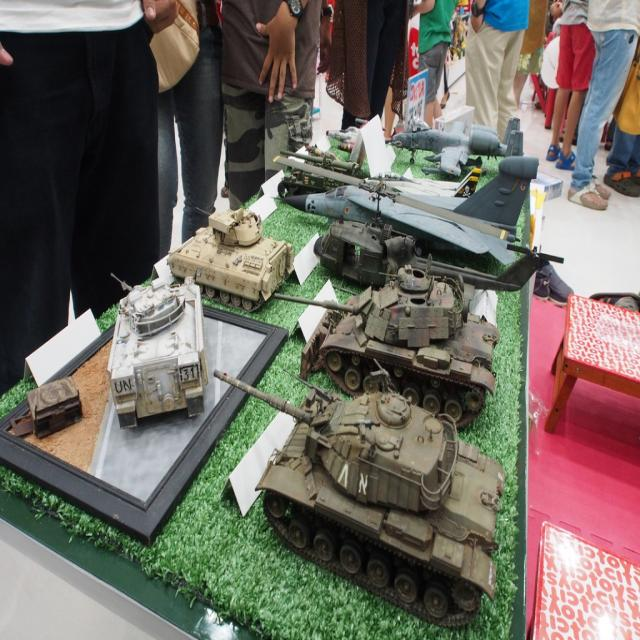tank: (213, 368, 506, 630), (274, 266, 500, 427), (106, 273, 206, 428), (165, 206, 292, 314), (313, 200, 423, 290)
